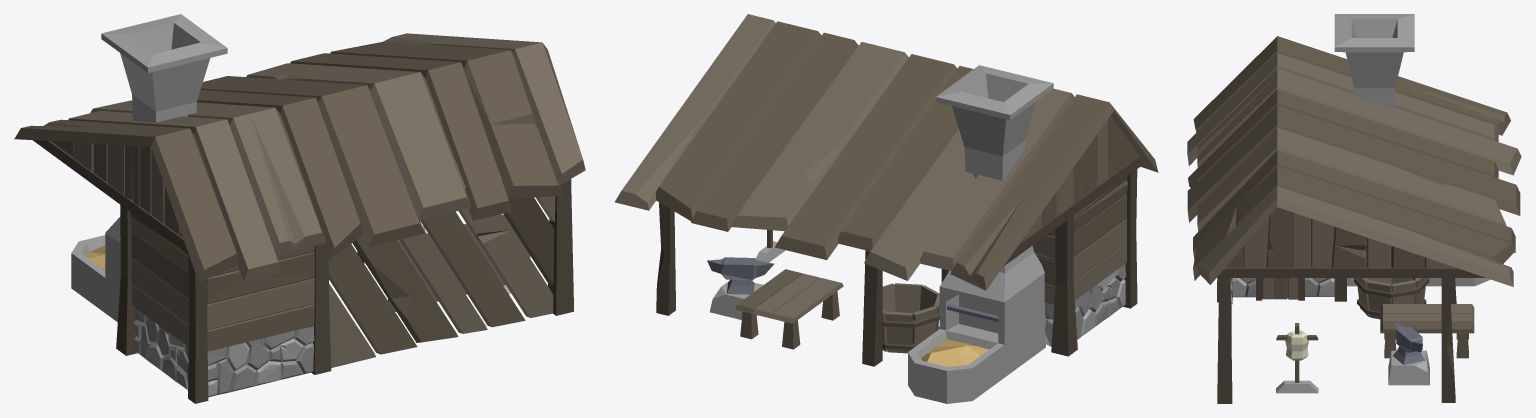
Rendered from Smithy.glb.
The picture shows the model from 3 angles, left to right: view 1: azimuth 30°, elevation 25°; view 2: azimuth 150°, elevation 25°; view 3: azimuth 270°, elevation 25°; orthographic projection. The views are drawn at different scales.
Parts seen in each view (by area): view 1: Smithy; view 2: Smithy; view 3: Smithy.
Boxes of the visible parts, bbox=[...] form: Smithy: bbox=[14, 14, 585, 403]; Smithy: bbox=[615, 14, 1158, 403]; Smithy: bbox=[1187, 14, 1521, 403].
Size of the model in its own units: 9.65 by 6.61 by 8.22.
Materials: 1 (1 with a texture image).
